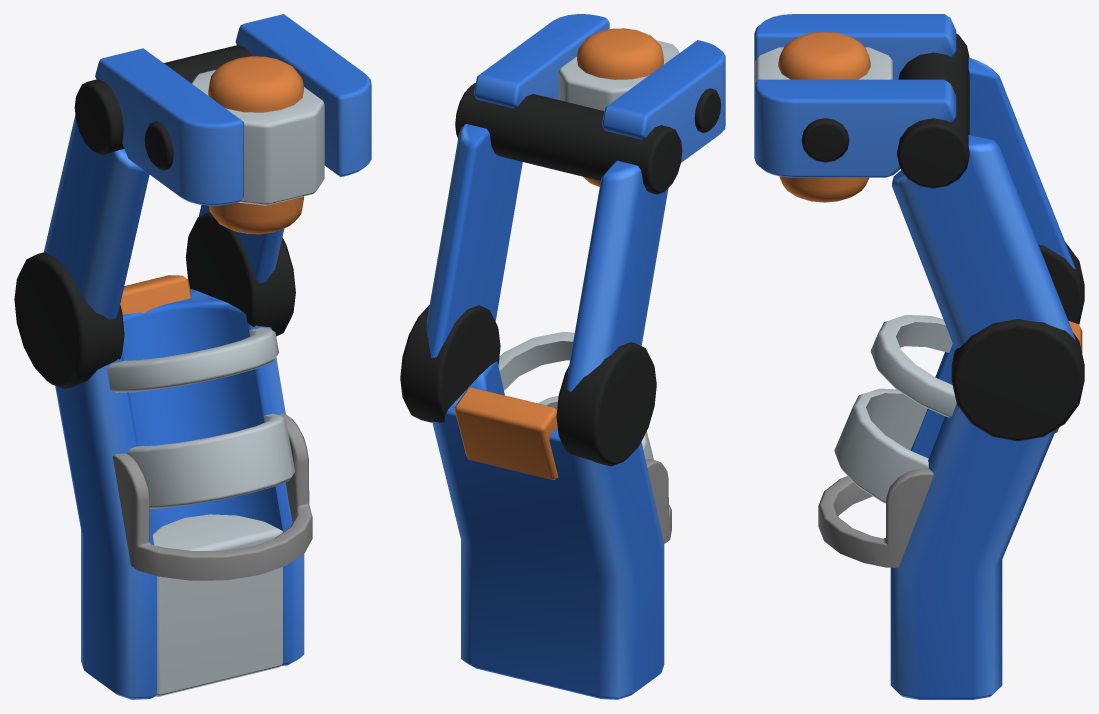
Rendered from column_002.fbx.
3 views of the same model, side by side, from view 1: azimuth 30°, elevation 25°; view 2: azimuth 150°, elevation 25°; view 3: azimuth 270°, elevation 25° (orthographic). The views are drawn at different scales.
Parts seen in each view (by area): view 1: column_002; view 2: column_002; view 3: column_002.
Boxes of the visible parts, box(x1,y1,x2,y2) form: column_002: box(14, 14, 371, 699); column_002: box(400, 14, 725, 699); column_002: box(754, 14, 1084, 699).
Size of the model in its own units: 432 by 590 by 1212.
